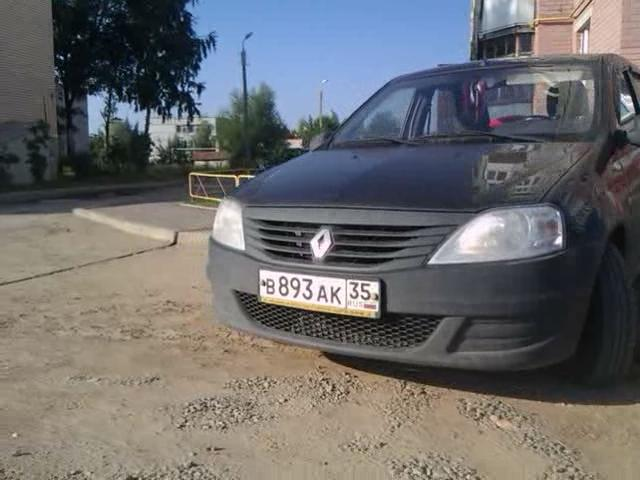car license plate: (258, 267, 383, 324)
